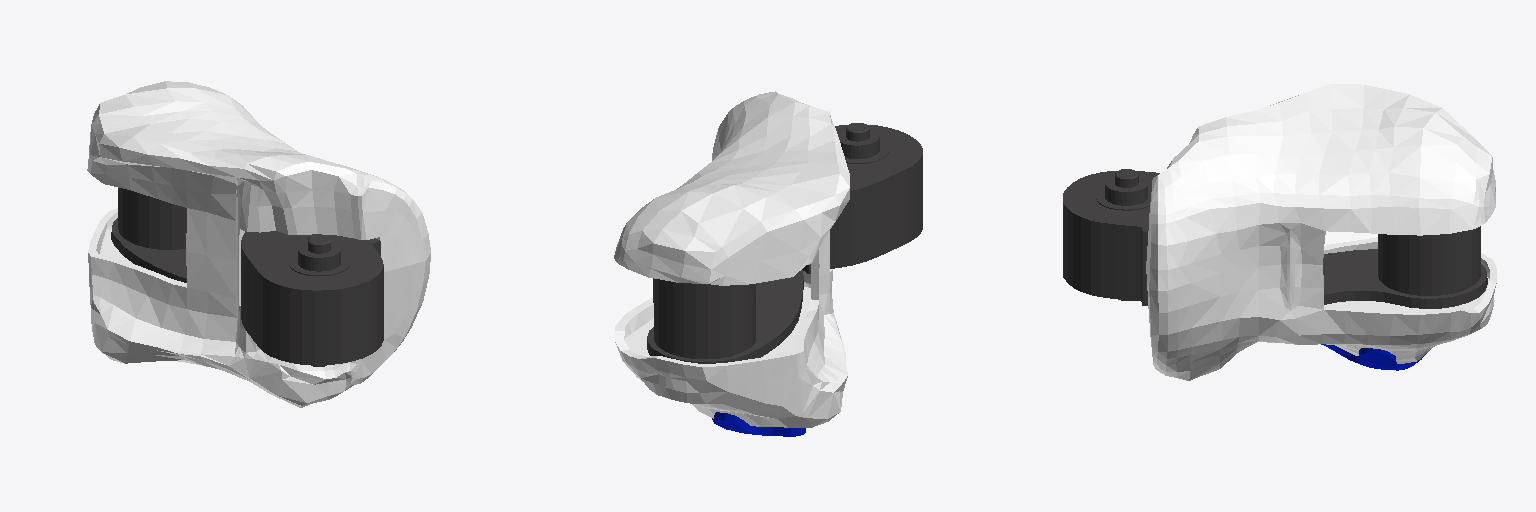
3 renders of one model, left to right at view 1: azimuth 30°, elevation 25°; view 2: azimuth 150°, elevation 25°; view 3: azimuth 270°, elevation 25°, orthographic.
Visible parts, largest first — view 1: RKneePitch_RShinebone; view 2: RKneePitch_RShinebone; view 3: RKneePitch_RShinebone.
Part boxes in pixels (x1,y1,x2,y2): RKneePitch_RShinebone: (87,81,430,407); RKneePitch_RShinebone: (614,91,922,436); RKneePitch_RShinebone: (1063,84,1496,380).
Size of the model in its own units: 0.8968 by 0.9329 by 1.48.
Materials: 1 (1 with a texture image).